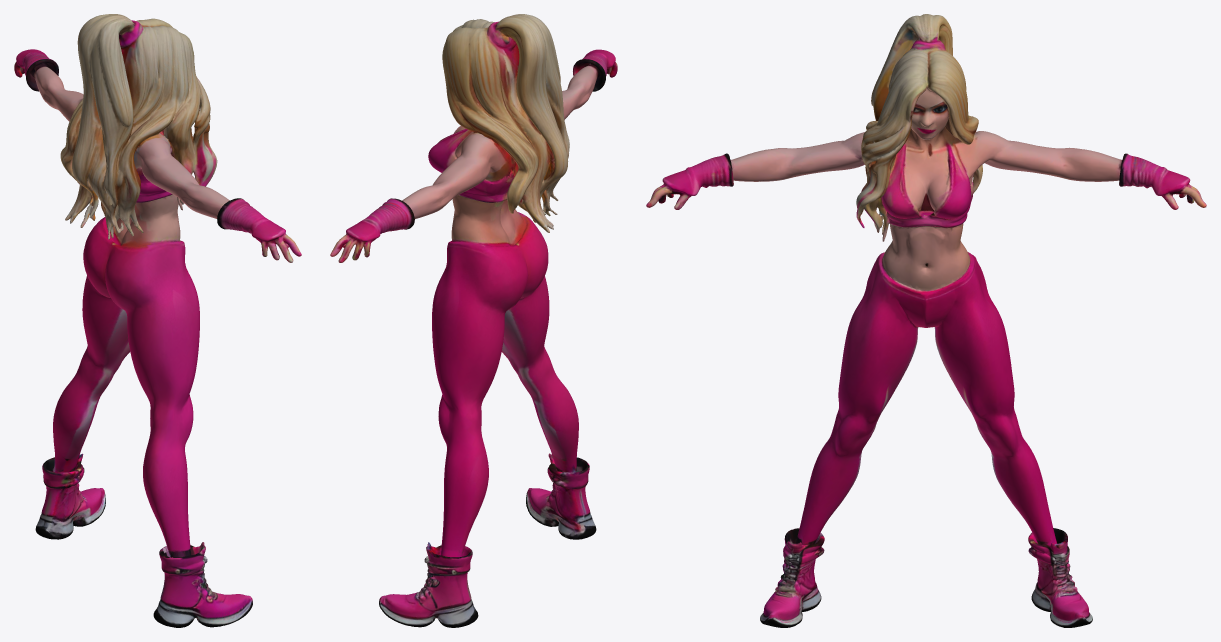
Rendered from Pinklady_tripo.fbx.
The picture shows the model from 3 angles, left to right: view 1: azimuth 30°, elevation 25°; view 2: azimuth 150°, elevation 25°; view 3: azimuth 270°, elevation 25°; orthographic projection. The views are drawn at different scales.
Parts seen in each view (by area): view 1: tripo_node_15ec68d1; view 2: tripo_node_15ec68d1; view 3: tripo_node_15ec68d1.
Boxes of the visible parts, x1=… form: tripo_node_15ec68d1: x1=14, y1=14, x2=301, y2=627; tripo_node_15ec68d1: x1=330, y1=14, x2=617, y2=627; tripo_node_15ec68d1: x1=646, y1=14, x2=1206, y2=627.
Bounding box in the file's own units: 22.2 × 99.99 × 86.69.
Materials: 1 (1 with a texture image).
